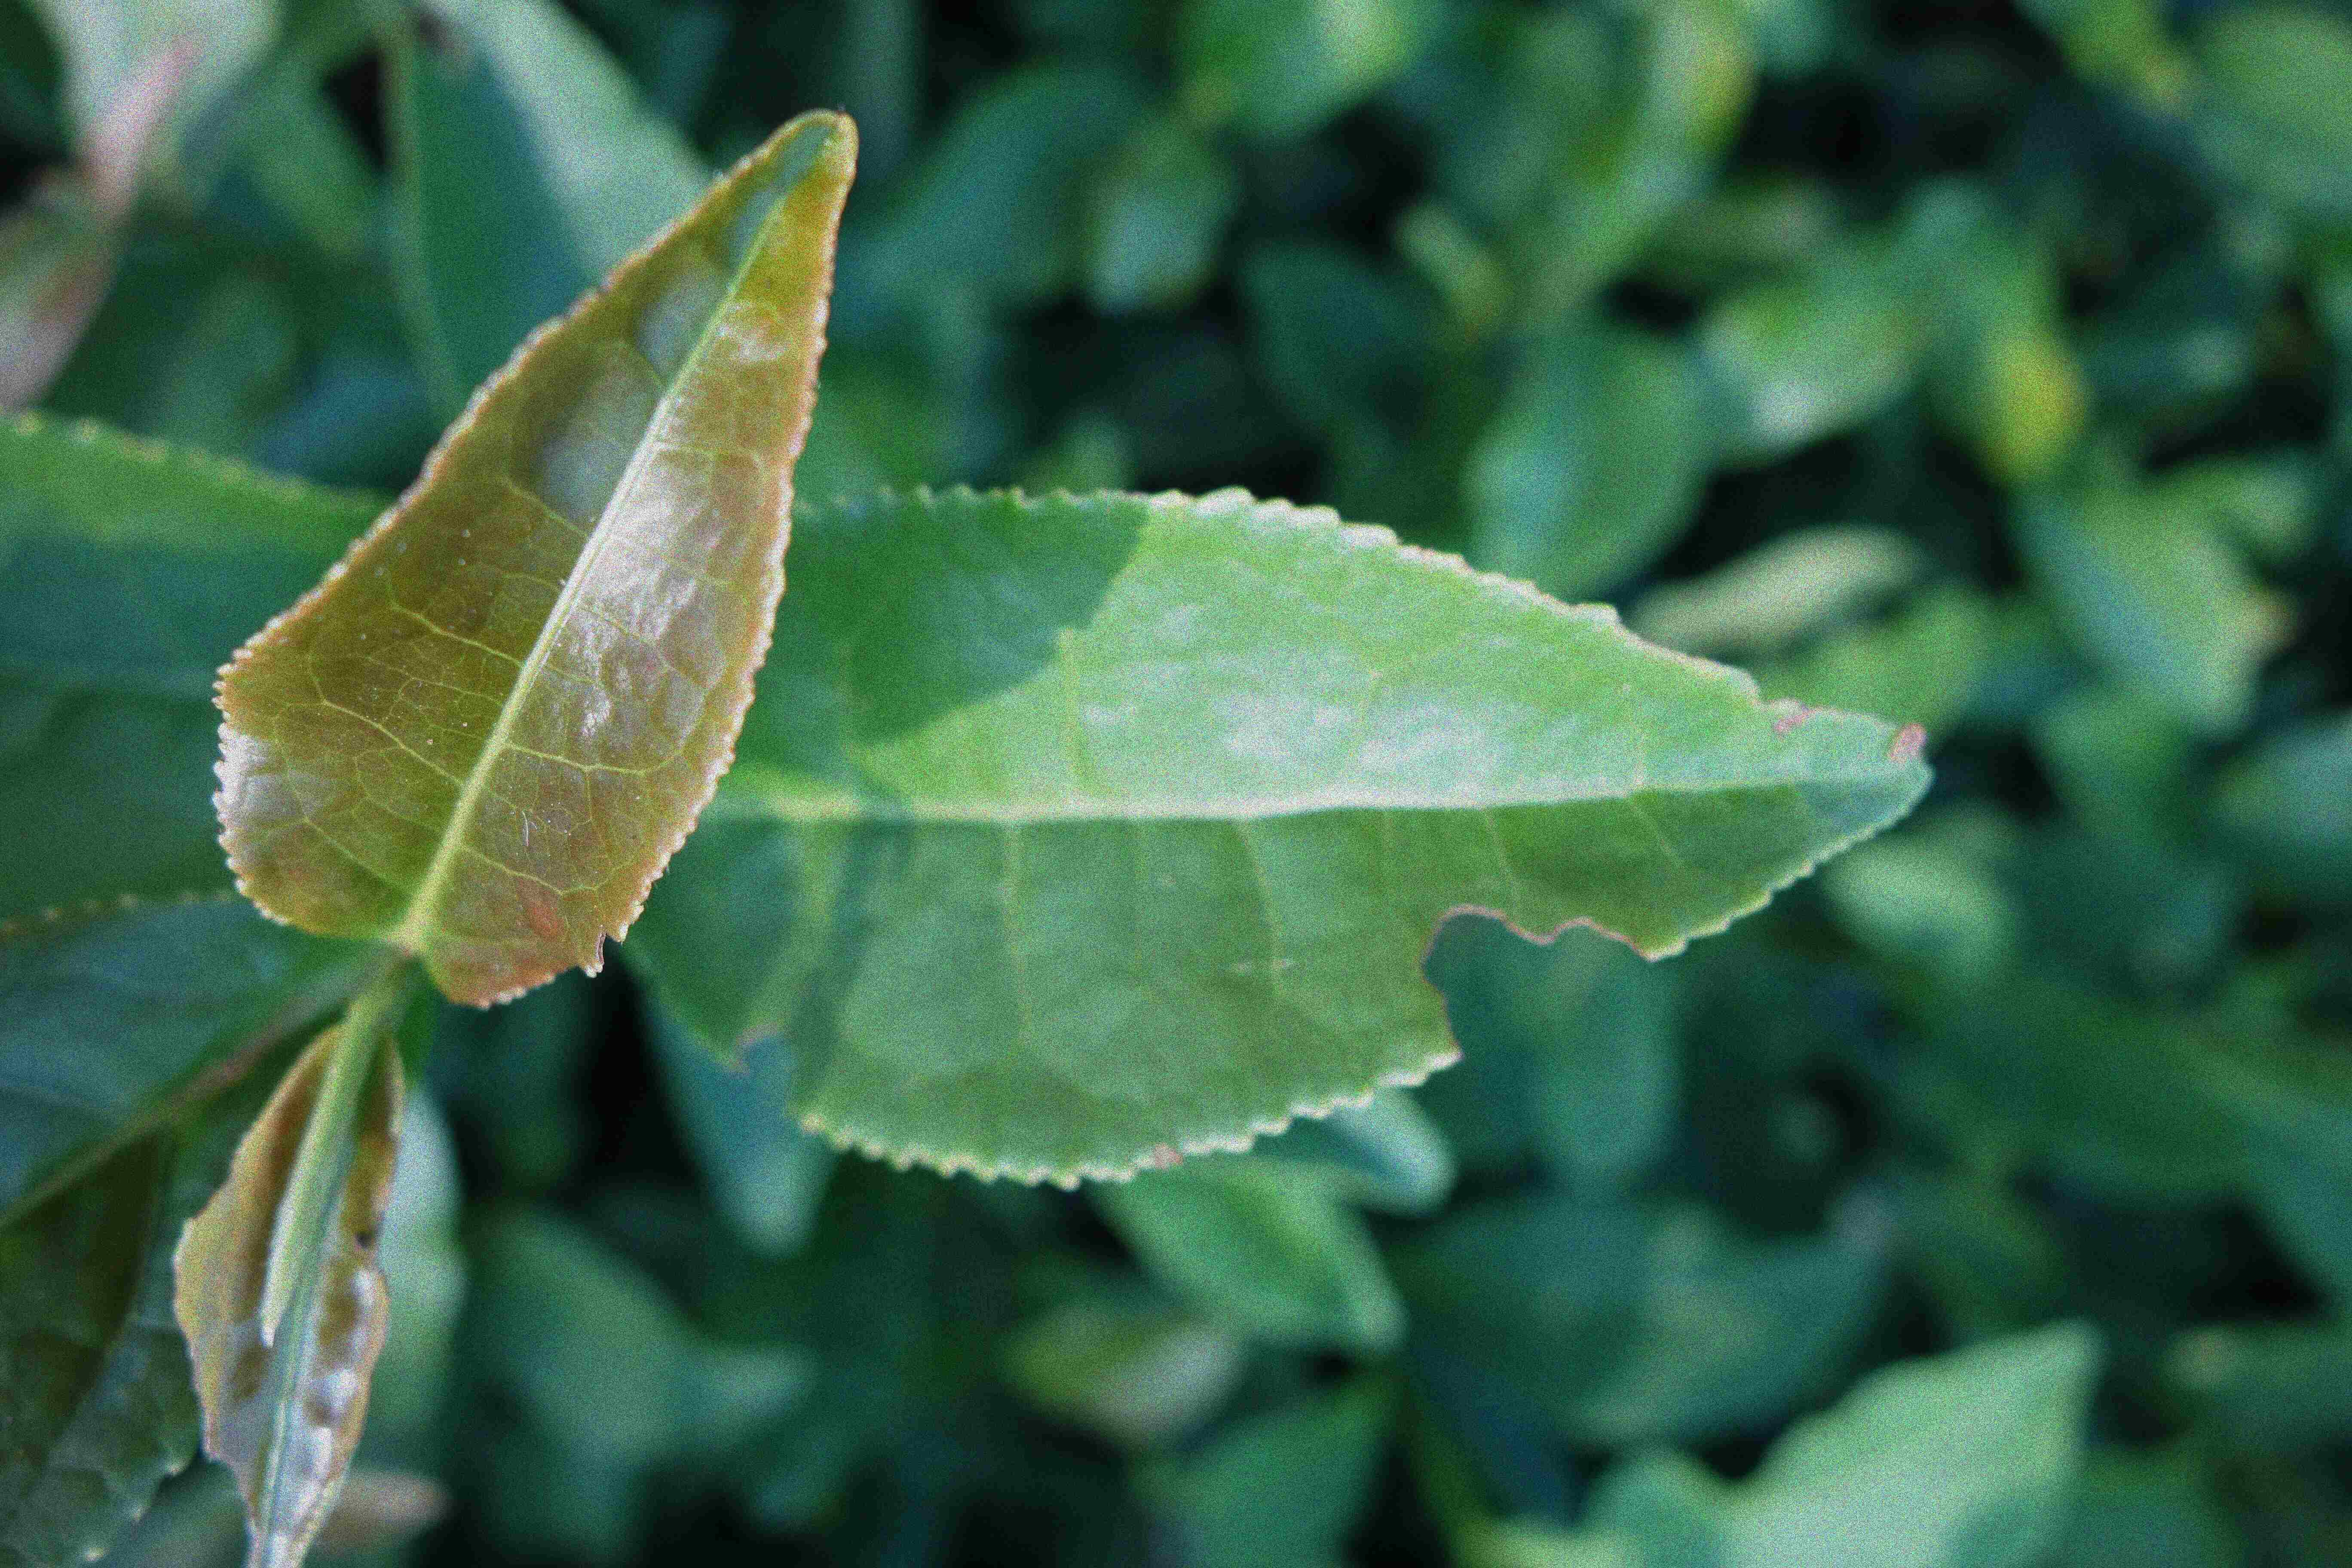chihuo_high: (616, 485, 1937, 1186)
tanju_low: (208, 105, 861, 1011), (170, 1027, 409, 1563)
